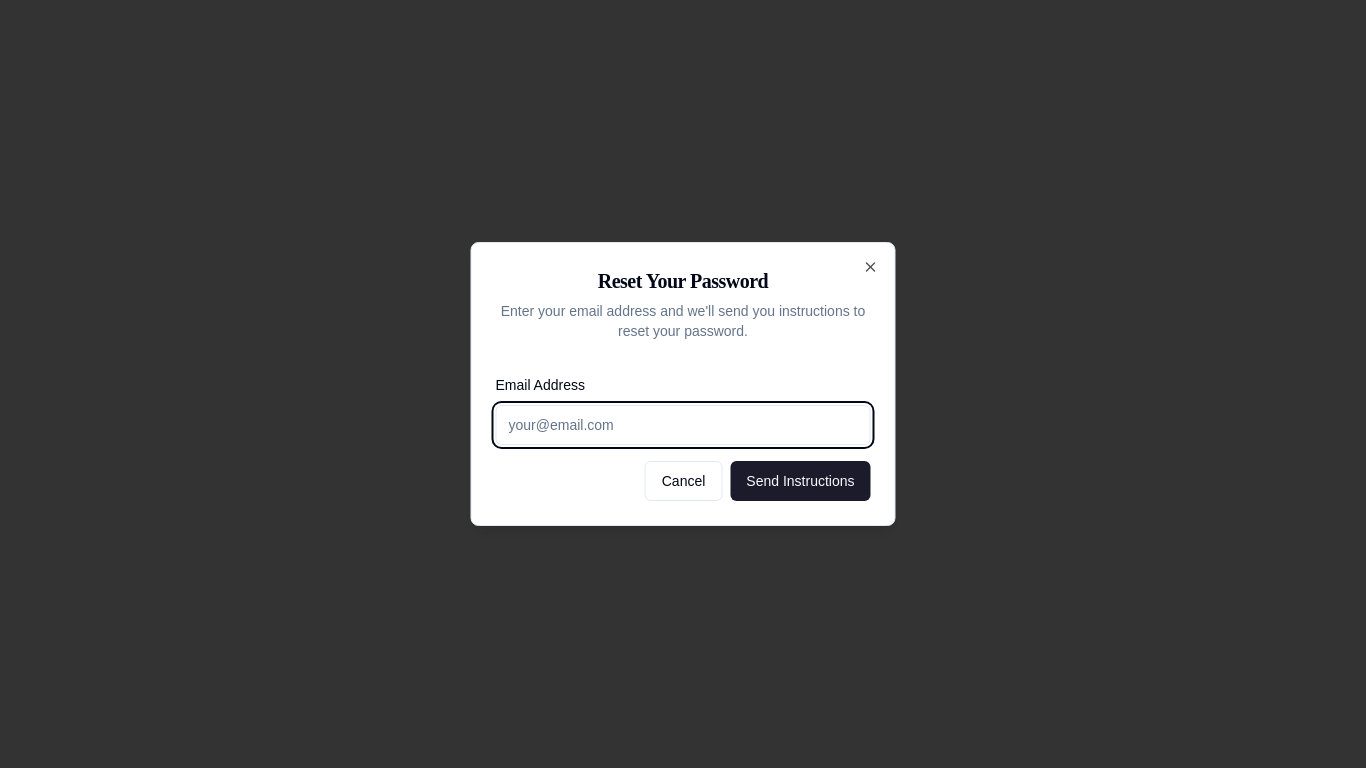
Scenario: ForgotPasswordModal › shows success message after successful submission
Type "test@example.com" into the field labelled "Email Address" at [683, 425], box [496,405,870,445]
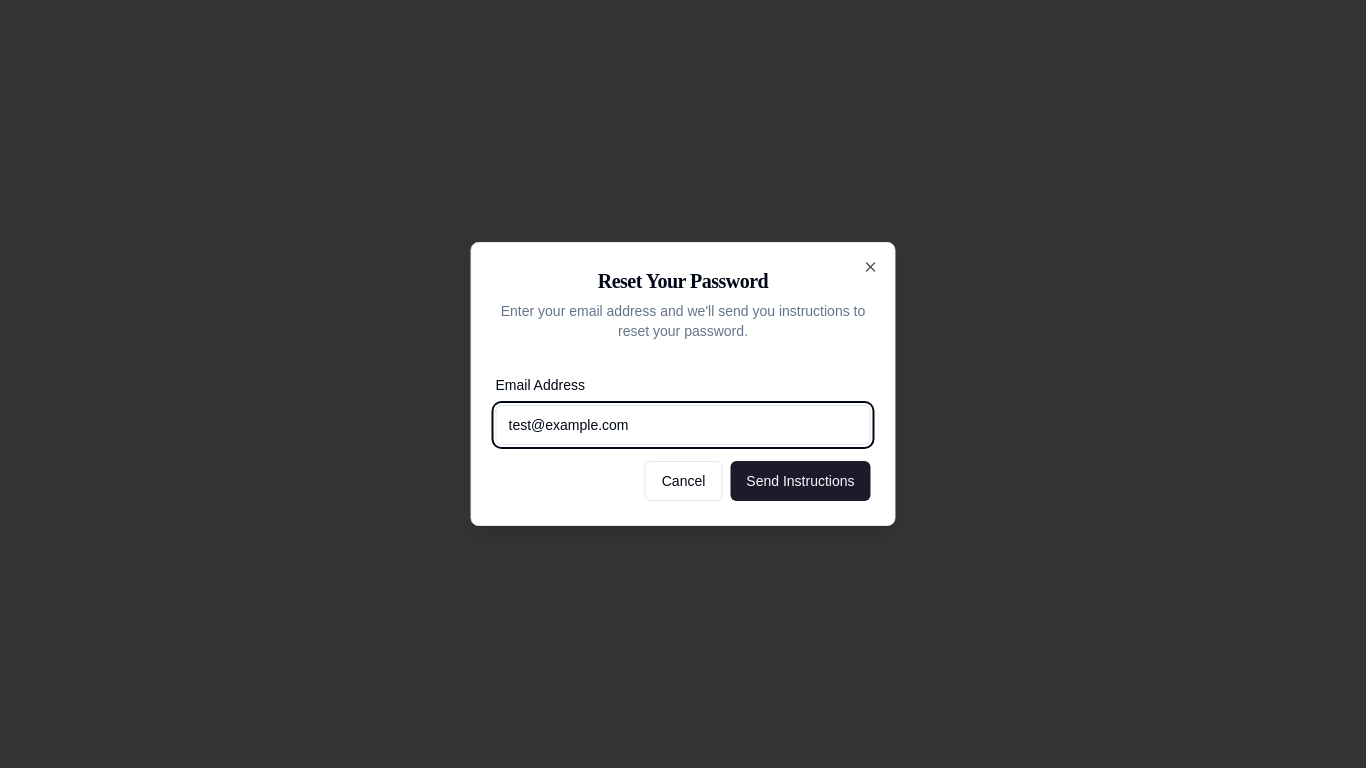
Click the button "Send Instructions" at [800, 481], box [730,461,870,501]
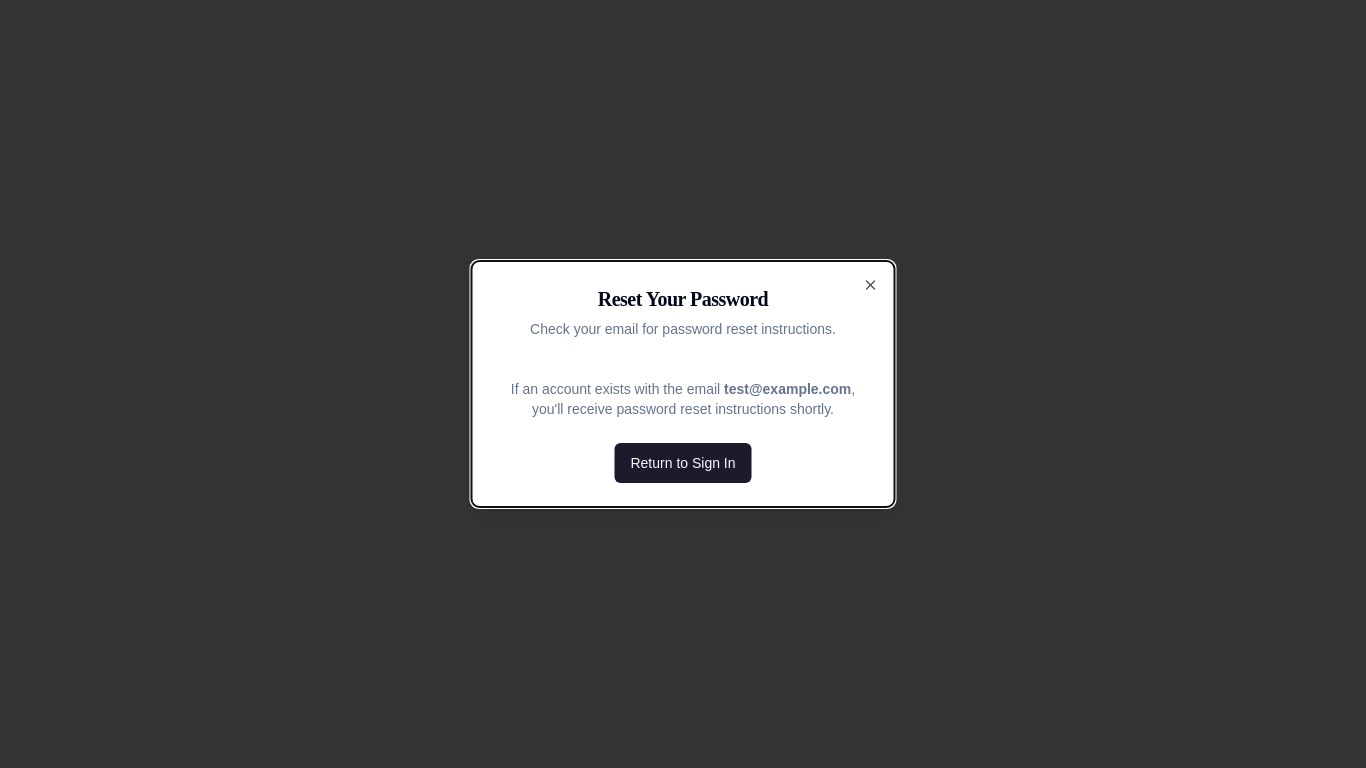
Check: the text "Check your email for password reset instructions." is shown, box [530,321,836,337]
